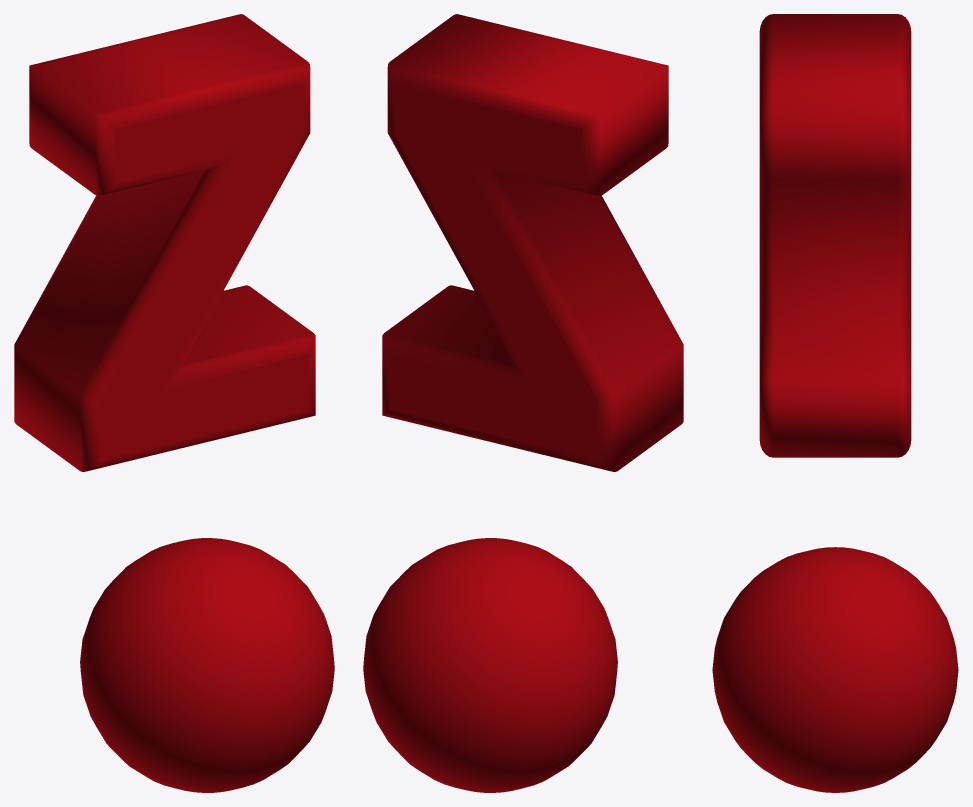
File: PointF.fbx
3 renders of one model, left to right at view 1: azimuth 30°, elevation 25°; view 2: azimuth 150°, elevation 25°; view 3: azimuth 270°, elevation 25°, orthographic. The views are drawn at different scales.
Visible parts, largest first — view 1: TextF, SphereF; view 2: TextF, SphereF; view 3: TextF, SphereF.
Part boxes in pixels (left/top/right/bottom): TextF: left=14, top=14, right=315, bottom=471; SphereF: left=80, top=538, right=334, bottom=792; TextF: left=382, top=14, right=683, bottom=471; SphereF: left=363, top=538, right=617, bottom=792; TextF: left=759, top=14, right=911, bottom=457; SphereF: left=712, top=547, right=958, bottom=792.
Bounding box in the file's own units: 139 × 358 × 114.
